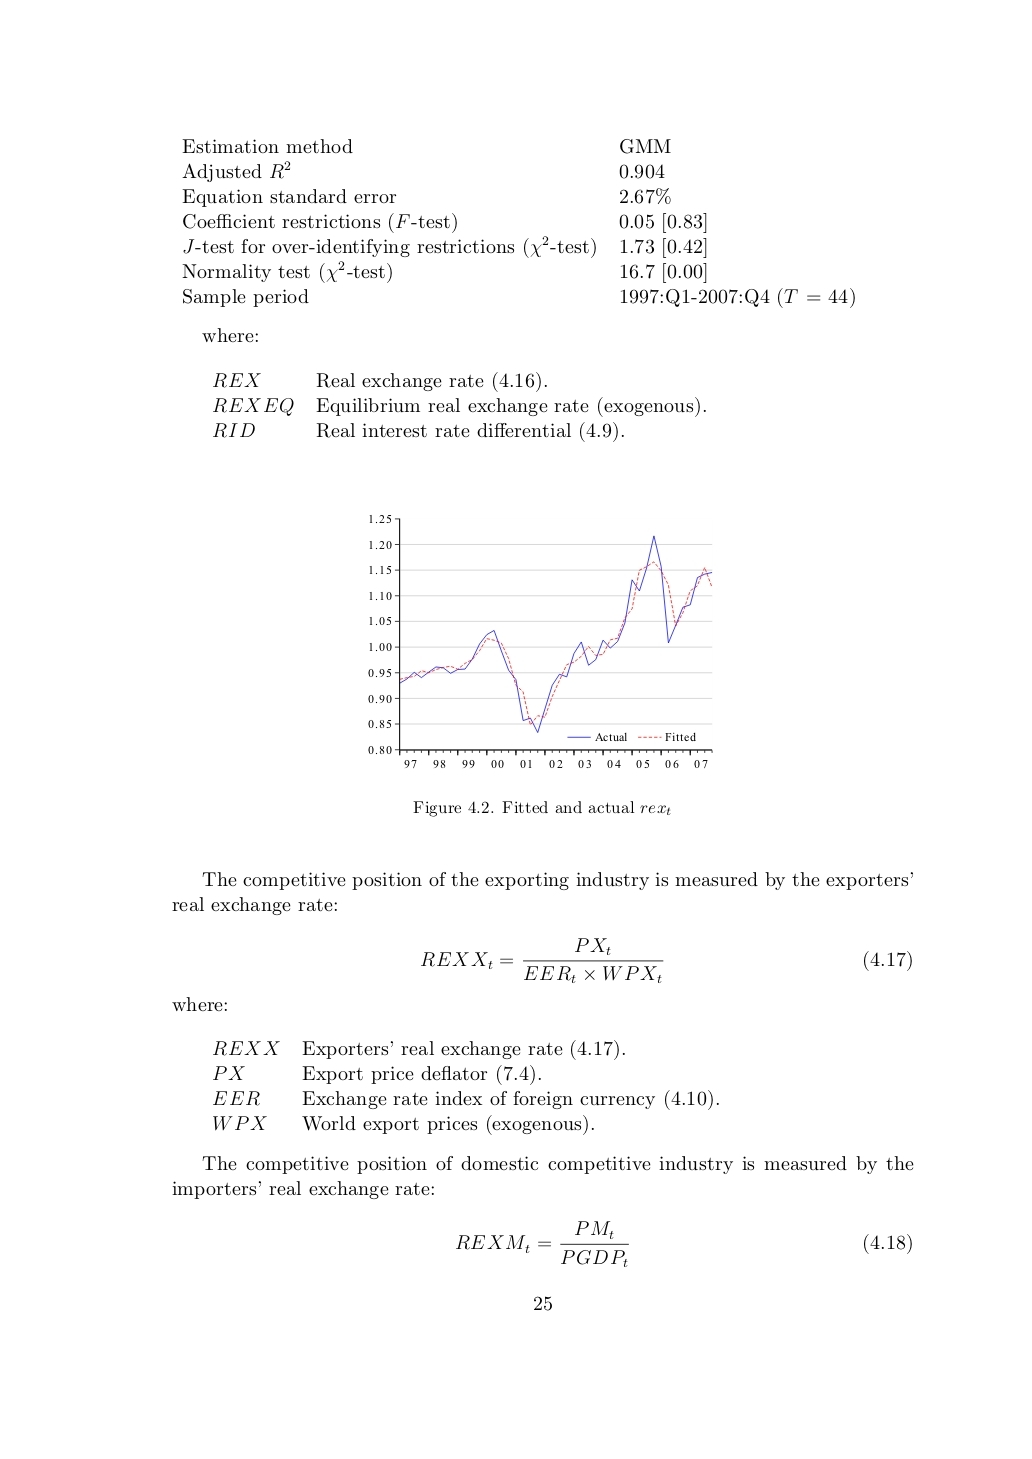Table: (182, 140, 854, 307)
figure: (367, 515, 711, 768)
formula: (421, 937, 911, 983), (456, 1220, 911, 1267)
